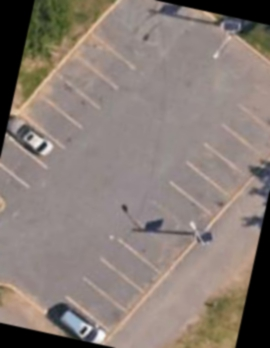parkingspot: (40, 59, 270, 346), (0, 27, 142, 215)
